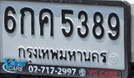num6: (3, 5, 17, 34)
txt01: (19, 6, 36, 36)
txt03: (37, 7, 55, 38)
